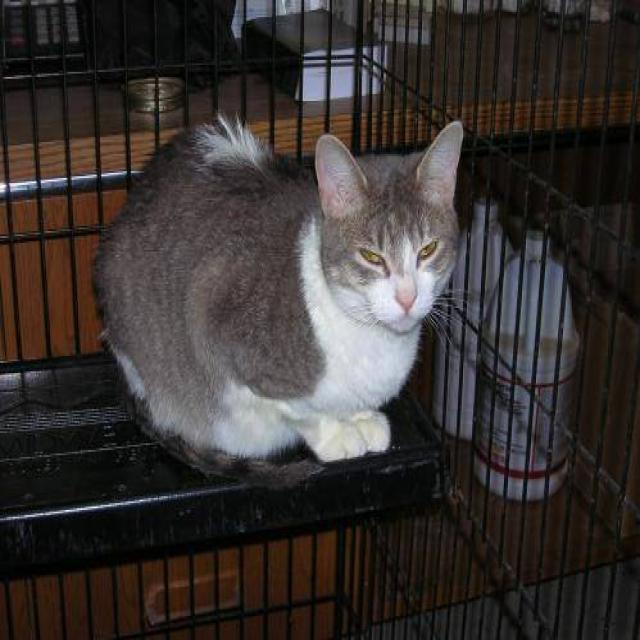cat: (90, 110, 468, 486)
